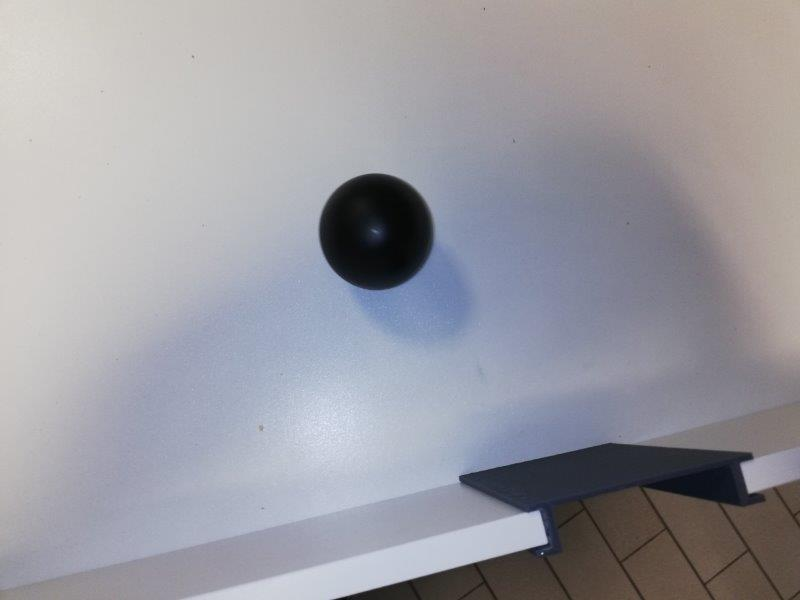nera: (317, 172, 435, 292)
